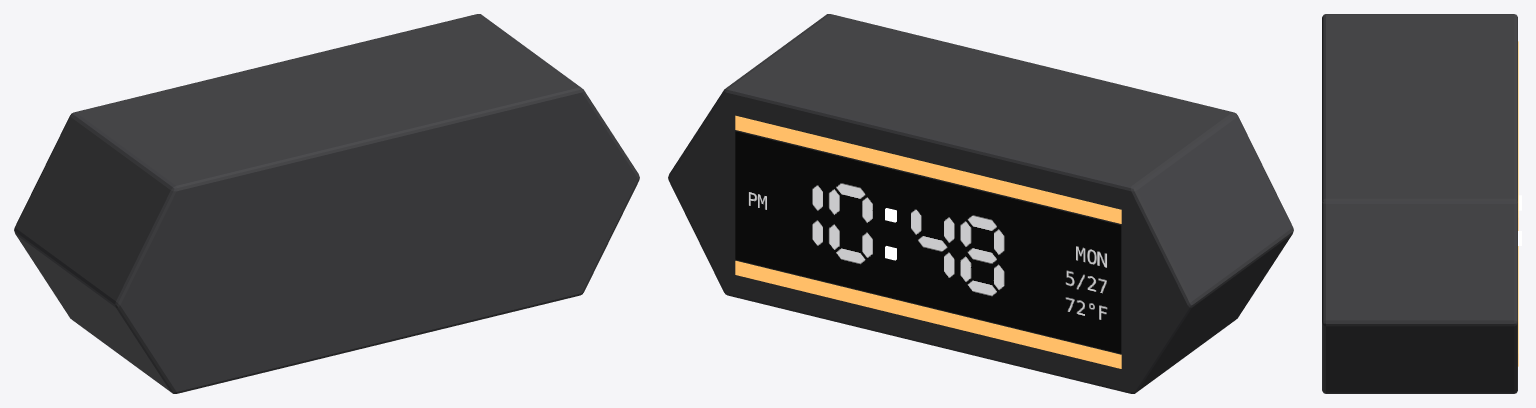
File: clock-CmWFEe6E.glb
3 renders of one model, left to right at view 1: azimuth 30°, elevation 25°; view 2: azimuth 150°, elevation 25°; view 3: azimuth 270°, elevation 25°, orthographic. The views are drawn at different scales.
Parts seen in each view (by area): view 1: DigitalClock; view 2: DigitalClock; view 3: DigitalClock.
Boxes of the visible parts, x1,y1,x2,y2 form: DigitalClock: [14, 14, 639, 393]; DigitalClock: [668, 14, 1293, 393]; DigitalClock: [1322, 14, 1518, 393].
Bounding box in the file's own units: 1.79 × 0.68 × 0.632.
4 materials, 1 textured.
